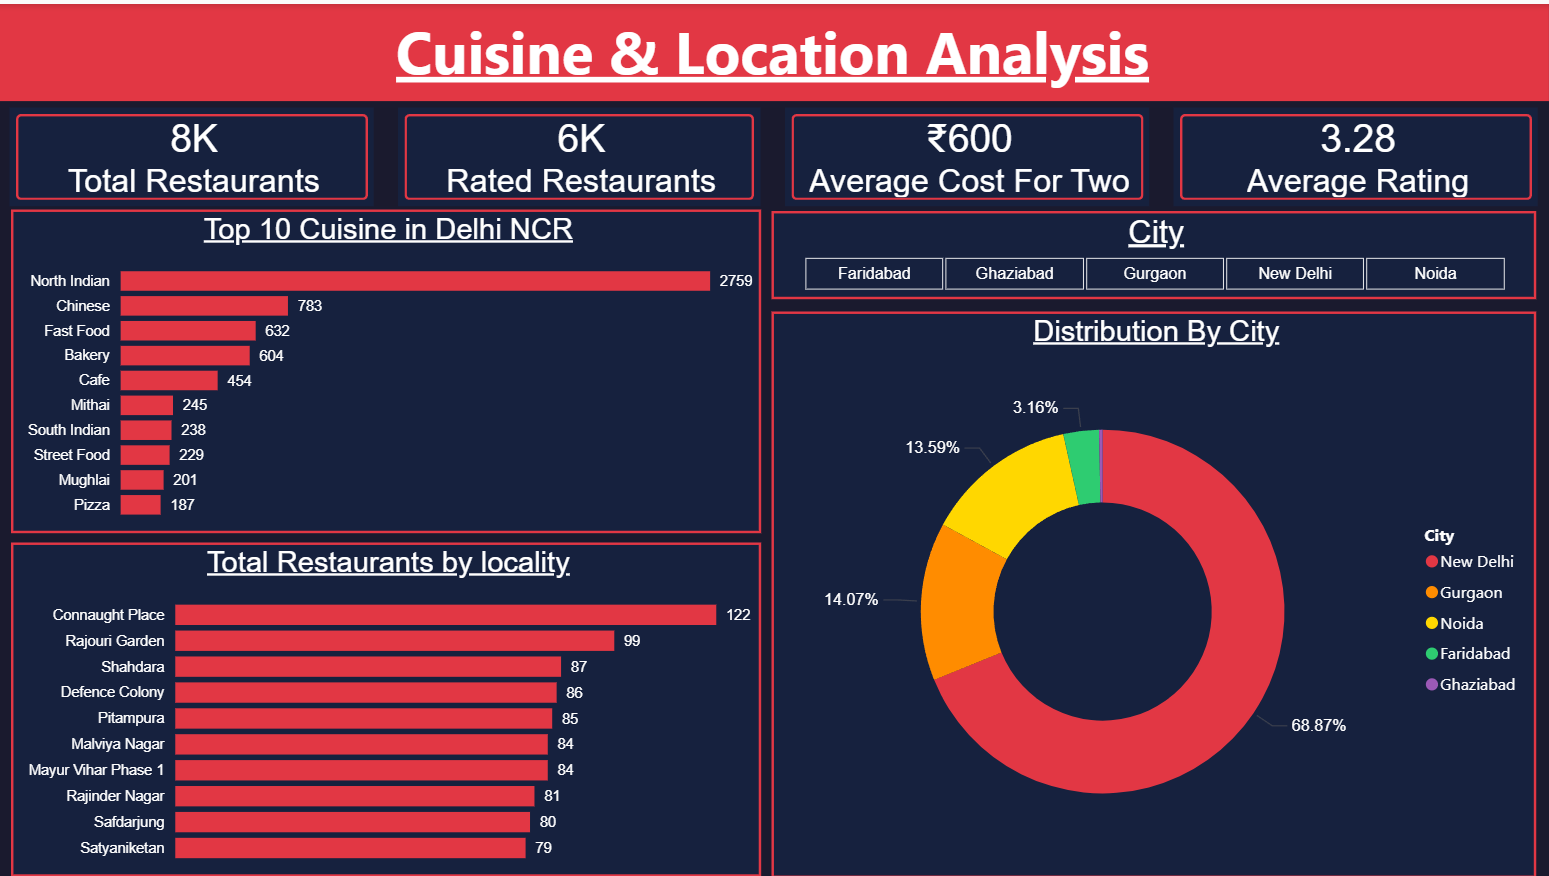

The dashboard page shown, as its layout file describes it:
{"tool":"powerbi","page":{"name":"Cuisine & Location Analysis","canvas":[1280,720],"ordinal":1},"visuals":[{"type":"clusteredBarChart","title":"Top 10 Cuisine in Delhi NCR","fields":{"Category":["zomato_delhi_cleaned.primary_cuisine"],"Y":["Measure.Total Restaurants"]},"box":[12.1,169.6,617.8,266.5],"z":0},{"type":"clusteredBarChart","fields":{"Category":["zomato_delhi_cleaned.locality"],"Y":["Measure.Total Restaurants"]},"box":[12.1,443.7,617.8,275.6],"z":1000},{"type":"donutChart","title":"Distribution By City","fields":{"Category":["zomato_delhi_cleaned.city"],"Y":["Measure.Total Restaurants"]},"box":[639.4,252.8,629.9,466.3],"z":2000},{"type":"cardVisual","fields":{"Data":["Measure.Total Restaurants"]},"box":[10.8,85.2,300.1,81.1],"z":3000},{"type":"cardVisual","fields":{"Data":["Measure.Rated Restaurants"]},"box":[331.2,85.2,298.7,81.1],"z":4000},{"type":"cardVisual","fields":{"Data":["Measure.Avg Cost For Two"]},"box":[650.2,85.2,300.1,81.1],"z":5000},{"type":"cardVisual","fields":{"Data":["Measure.Avg Rating"]},"box":[970.5,85.2,300.1,81.1],"z":6000},{"type":"slicer","title":"City","fields":{"Values":["zomato_delhi_cleaned.city"]},"box":[639.4,170.3,629.9,73],"z":7000},{"type":"textbox","box":[0,0,1279.5,80.3],"z":8000}]}

Visuals, with their boxes in screenshot pixels (x1, y1, x2, y2), scaled from the page's 1280x720 canvas onto the 1549x876 screenshot:
"Top 10 Cuisine in Delhi NCR" clusteredBarChart: crop(15, 206, 762, 531)
clusteredBarChart - zomato_delhi_cleaned.locality x Measure.Total Restaurants: crop(15, 540, 762, 875)
"Distribution By City" donutChart: crop(774, 308, 1536, 875)
cardVisual - Measure.Total Restaurants: crop(13, 104, 376, 202)
cardVisual - Measure.Rated Restaurants: crop(401, 104, 762, 202)
cardVisual - Measure.Avg Cost For Two: crop(787, 104, 1150, 202)
cardVisual - Measure.Avg Rating: crop(1174, 104, 1538, 202)
"City" slicer: crop(774, 207, 1536, 296)
textbox: crop(0, 0, 1548, 98)
